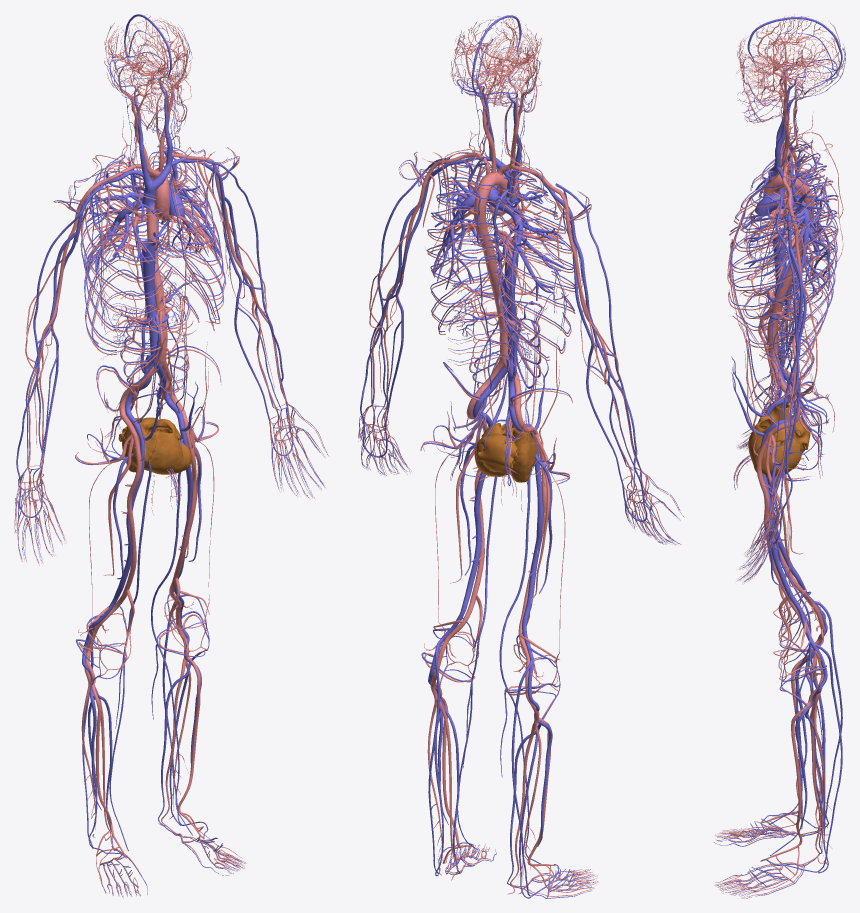
File: angiology.glb
3 views of the same model, side by side, from view 1: azimuth 30°, elevation 25°; view 2: azimuth 150°, elevation 25°; view 3: azimuth 270°, elevation 25° (orthographic). The views are drawn at different scales.
Visible parts, largest first — view 1: Object_2, Object_153, Object_151; view 2: Object_153, Object_2, Object_151; view 3: Object_2, Object_153, Object_151.
Boxes of the visible parts, left/top/right/bottom form: Object_2: left=14, top=14, right=328, bottom=896; Object_153: left=14, top=14, right=326, bottom=898; Object_151: left=118, top=417, right=191, bottom=474; Object_153: left=358, top=15, right=683, bottom=898; Object_2: left=358, top=15, right=684, bottom=896; Object_151: left=474, top=423, right=536, bottom=482; Object_2: left=714, top=14, right=844, bottom=897; Object_153: left=714, top=17, right=845, bottom=898; Object_151: left=748, top=403, right=810, bottom=477.
Size of the model in its own units: 21750 by 55634 by 7848.
